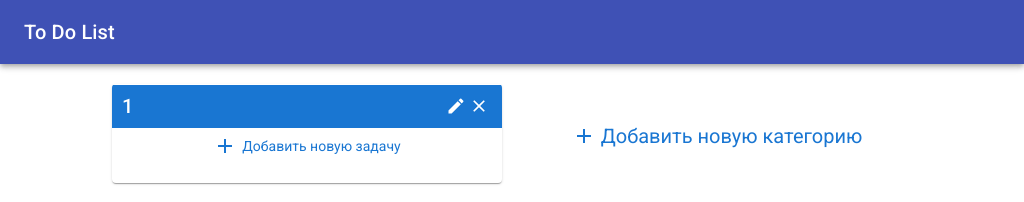
Scenario: App component › Close ToDoCard
Expected: the number of elements with test id "card" is 1, [112, 84, 502, 183]
Click the icon with test id "closeCard".
click(479, 106)  # box [469, 96, 489, 116]
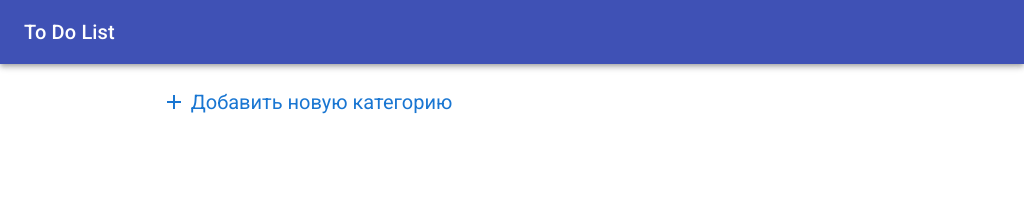
Result: no elements with test id "card" are shown
